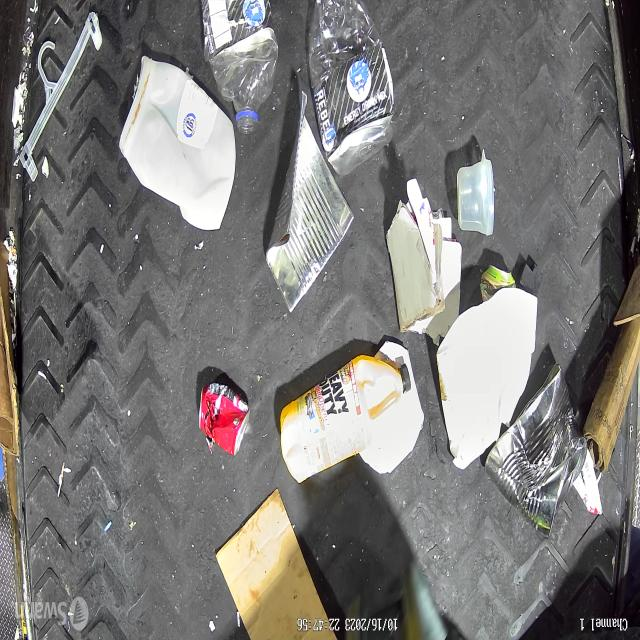can: (264, 96, 356, 312), (484, 361, 587, 536), (198, 381, 250, 456), (480, 265, 516, 303)
milk_jug: (118, 55, 236, 228)
non_white_jug: (280, 354, 411, 484)
plastic_bottle: (308, 0, 394, 178), (207, 2, 279, 134)
